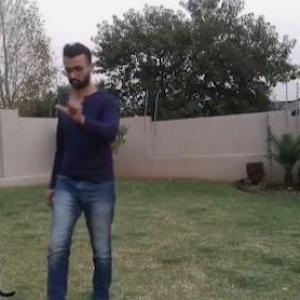land_hand: (52, 83, 88, 129)
